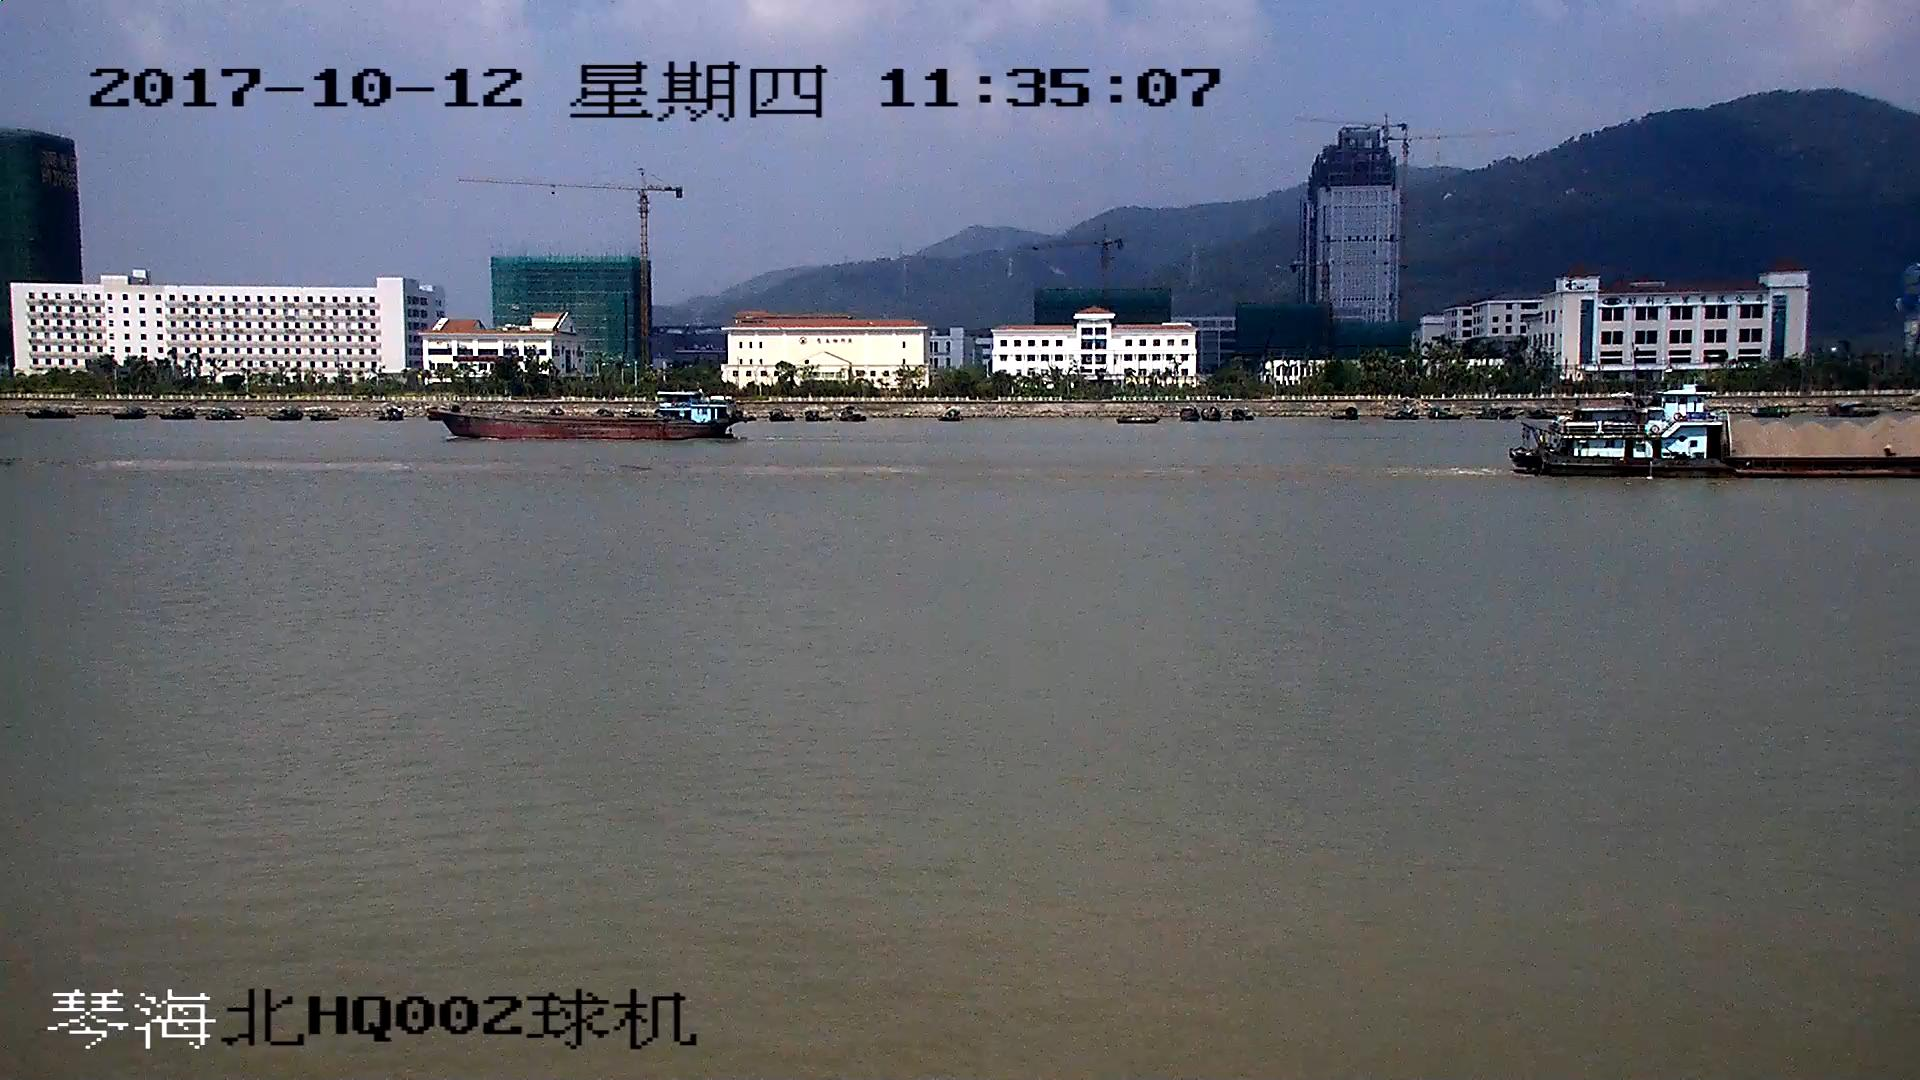bulk cargo carrier: (427, 392, 736, 437)
ore carrier: (1520, 402, 1920, 477)
